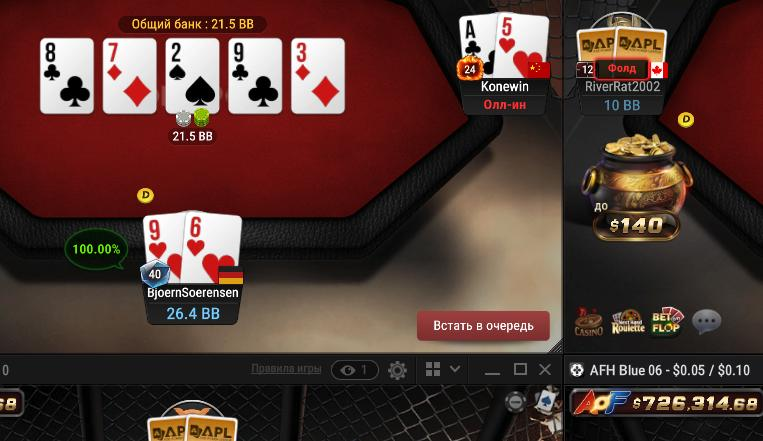2s: (166, 39, 219, 112)
3d: (292, 39, 344, 114)
5h: (496, 11, 548, 79)
6h: (183, 209, 242, 286)
7d: (103, 38, 155, 112)
8c: (41, 38, 92, 114)
9c: (228, 39, 281, 112)
9h: (142, 212, 184, 284)
Ac: (458, 14, 496, 79)
